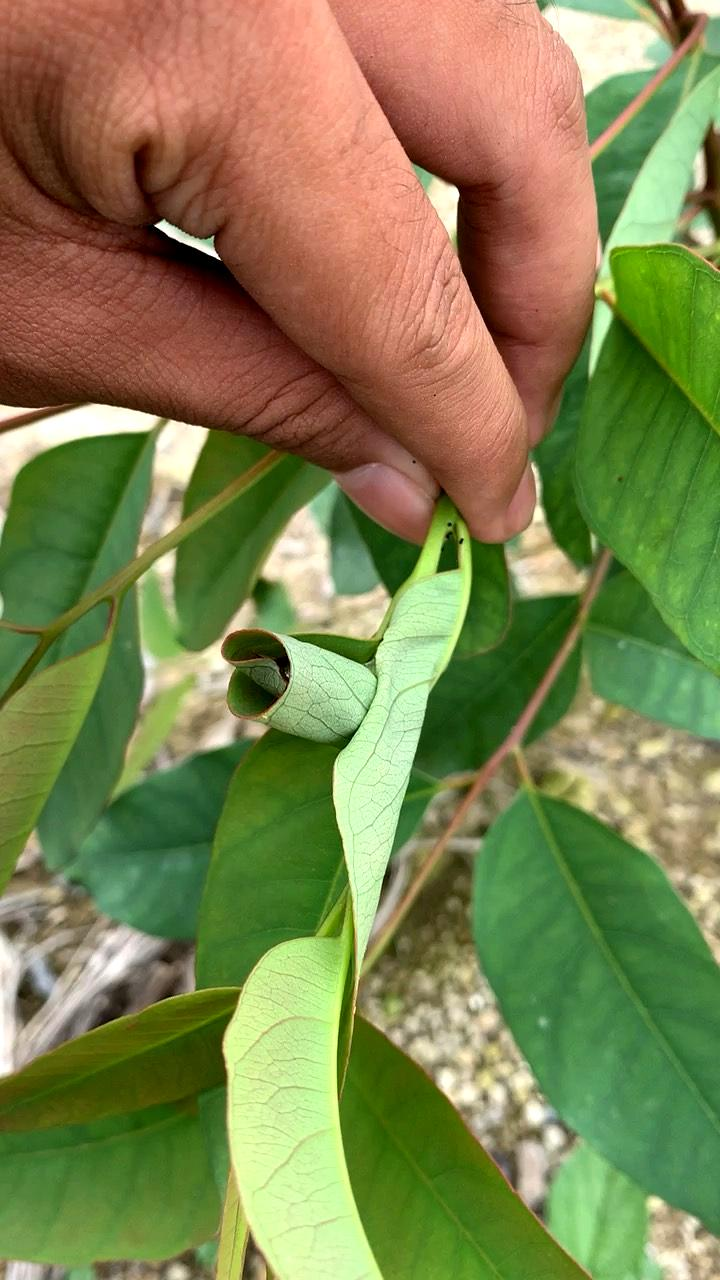Leaf Roller - Leaf: (195, 596, 411, 788)
